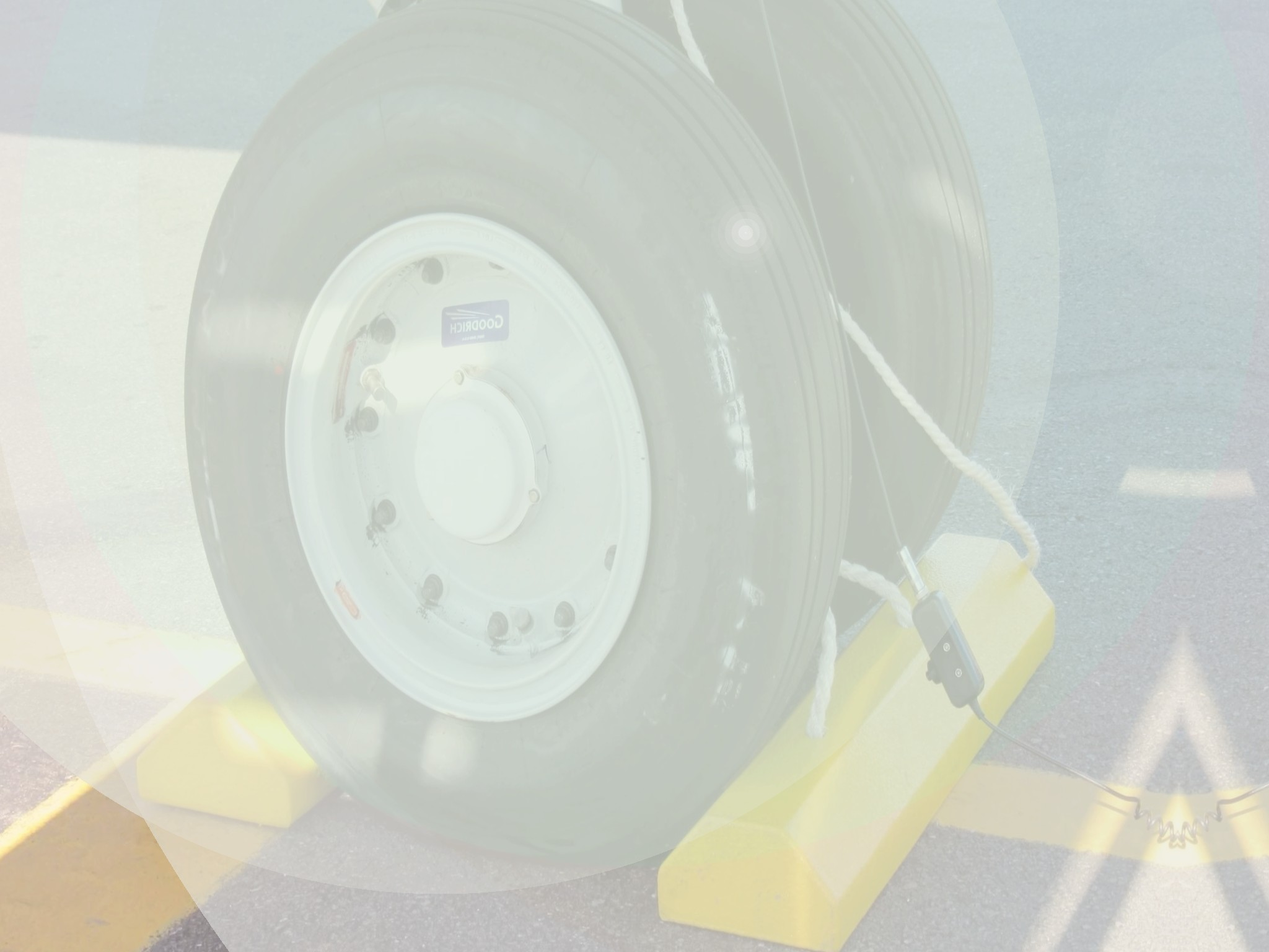chock: (652, 497, 1062, 952), (133, 480, 469, 827)
wheel: (169, 0, 859, 860), (606, 0, 999, 596)
